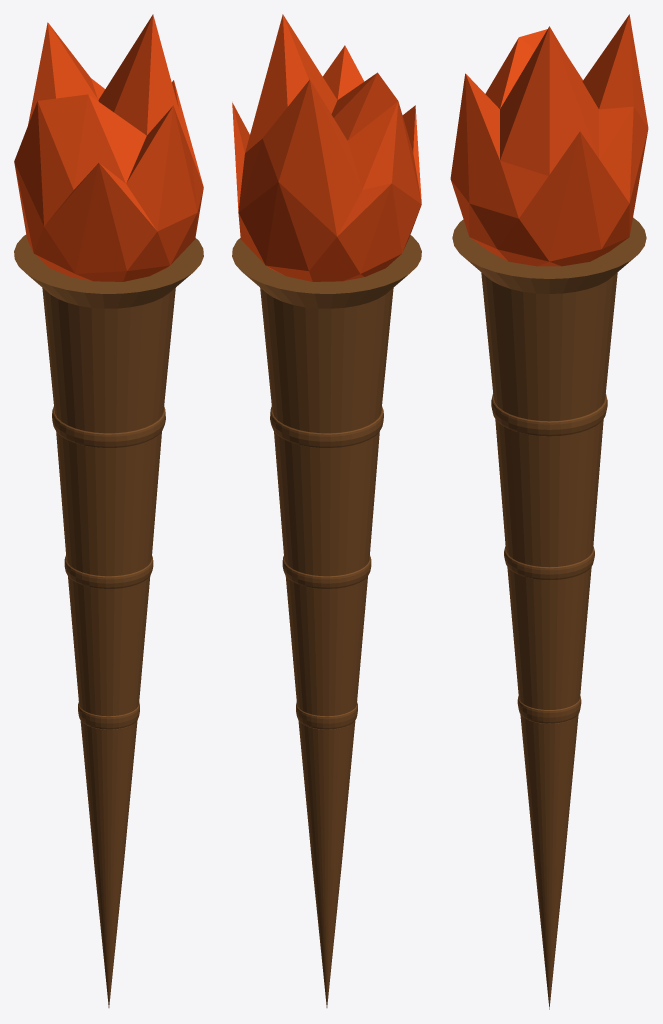
The model's file is Torch.fbx.
The picture shows the model from 3 angles, left to right: view 1: azimuth 30°, elevation 25°; view 2: azimuth 150°, elevation 25°; view 3: azimuth 270°, elevation 25°; orthographic projection. The views are drawn at different scales.
Parts seen in each view (by area): view 1: Cylinder, Icosphere; view 2: Cylinder, Icosphere; view 3: Cylinder, Icosphere.
Boxes of the visible parts, x1,y1,x2,y2 form: Cylinder: (14,234,203,1007); Icosphere: (14,14,203,281); Cylinder: (232,235,421,1007); Icosphere: (232,14,421,281); Cylinder: (452,217,646,1009); Icosphere: (450,14,648,266).
Bounding box in the file's own units: 111 × 633 × 113.
